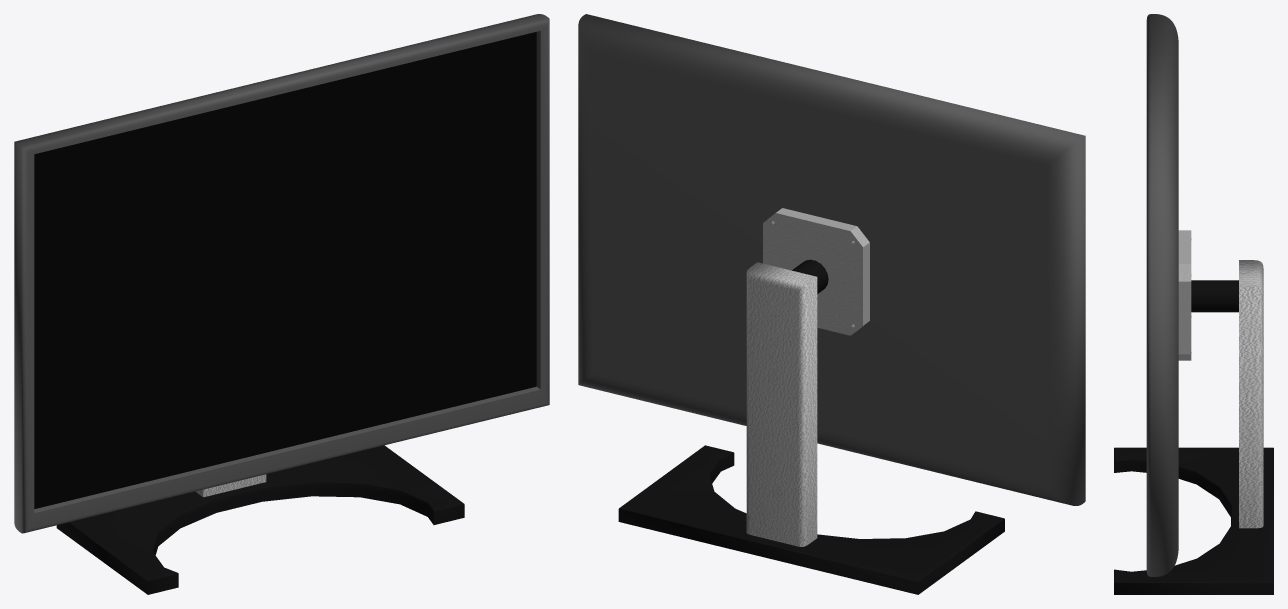
Rendered from monitor3.fbx.
3 renders of one model, left to right at view 1: azimuth 30°, elevation 25°; view 2: azimuth 150°, elevation 25°; view 3: azimuth 270°, elevation 25°, orthographic. The views are drawn at different scales.
Visible parts, largest first — view 1: monitor, podstawka; view 2: monitor, statyw, podstawka, Box005; view 3: monitor, podstawka, statyw, Box005, Cylinder002.
Part boxes in pixels (left/top/right/bottom): monitor: left=14, top=14, right=549, bottom=533; podstawka: left=56, top=445, right=464, bottom=594; monitor: left=578, top=14, right=1085, bottom=505; statyw: left=746, top=262, right=817, bottom=546; podstawka: left=618, top=445, right=1004, bottom=594; Box005: left=763, top=208, right=869, bottom=335; monitor: left=1146, top=14, right=1178, bottom=576; podstawka: left=1114, top=447, right=1273, bottom=594; statyw: left=1239, top=260, right=1263, bottom=528; Box005: left=1178, top=230, right=1191, bottom=360; Cylinder002: left=1191, top=280, right=1238, bottom=312.
Size of the model in its own units: 19.69 by 16.35 by 5.91.
Materials: 5 (1 with a texture image).
